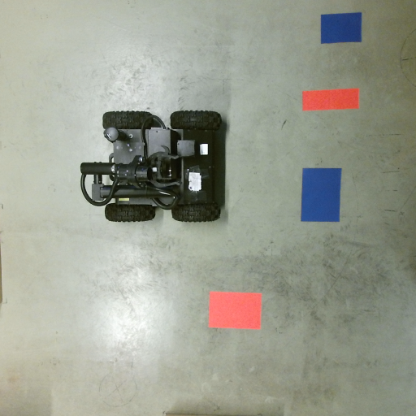Blue: (299, 167, 343, 224), (318, 11, 366, 45)
Jaguar: (77, 108, 225, 224)
Red: (206, 290, 263, 331), (301, 90, 359, 111)
